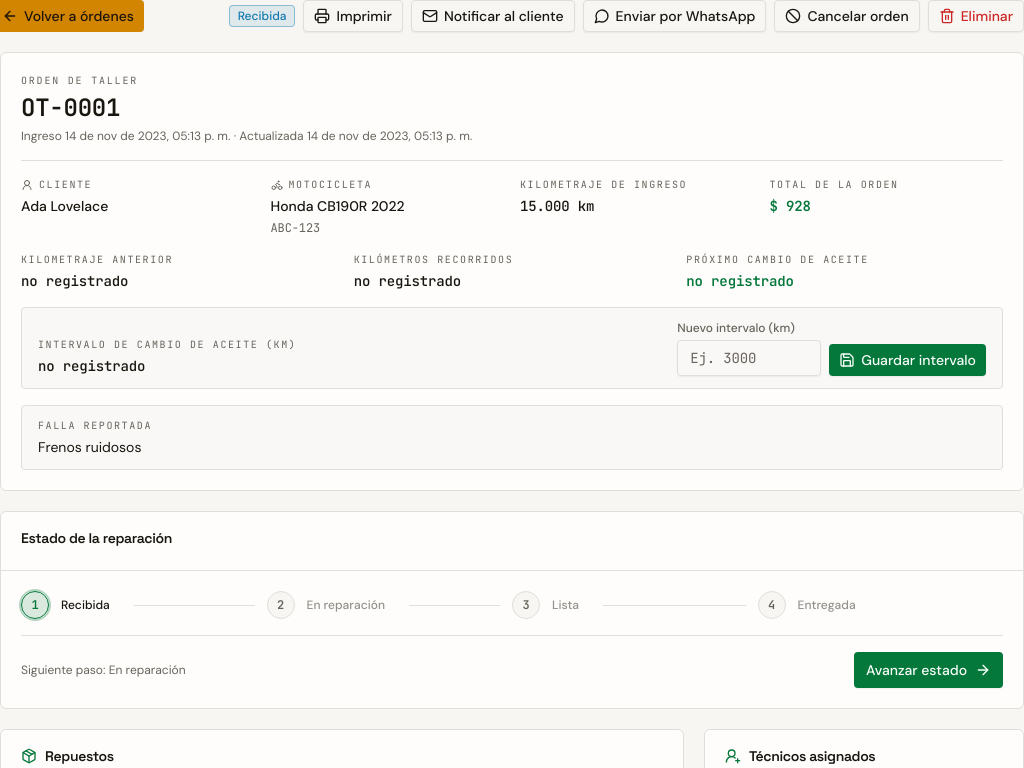
Test case: OrderDetailPage anticipo/receipt seam (characterization) › keeps the OT document free of anticipo lines when there is no advance
The width and height of the screenshot is (1024, 768).
Expected: the heading "OT-0001" is shown, x1=21 y1=92 x2=120 y2=123
Click the button with test id "order_detail.print_button" at {"x": 353, "y": 16}, box x1=304 y1=0 x2=403 y2=32
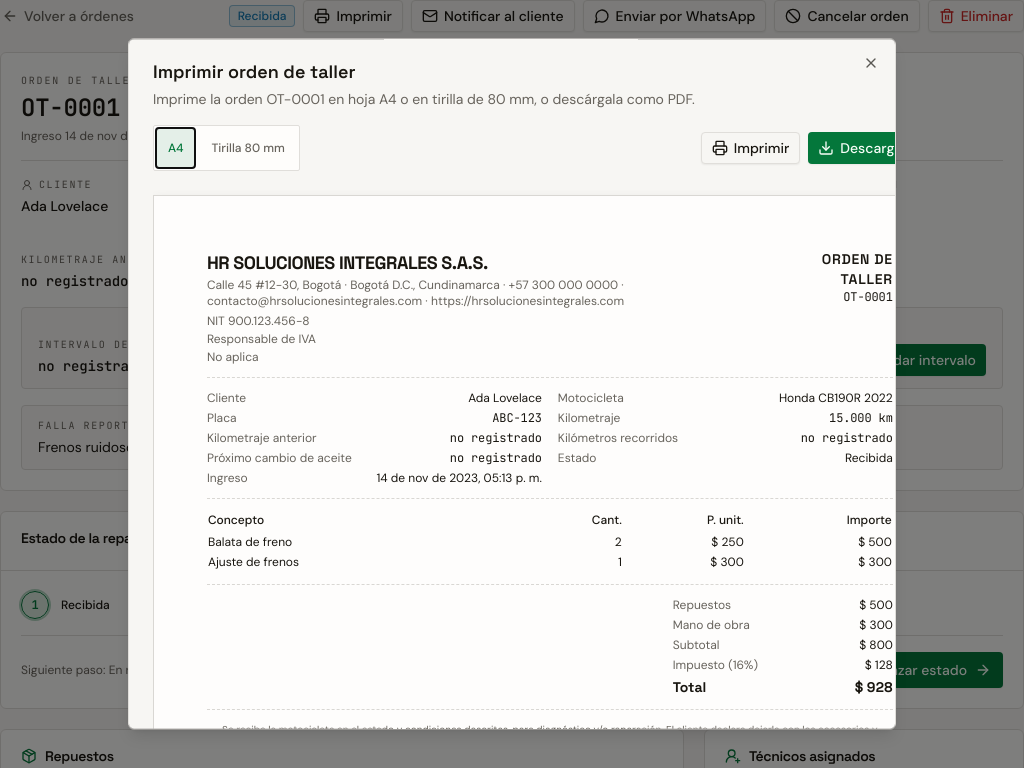
Now the text "Total" is shown, box x1=673 y1=677 x2=706 y2=697
